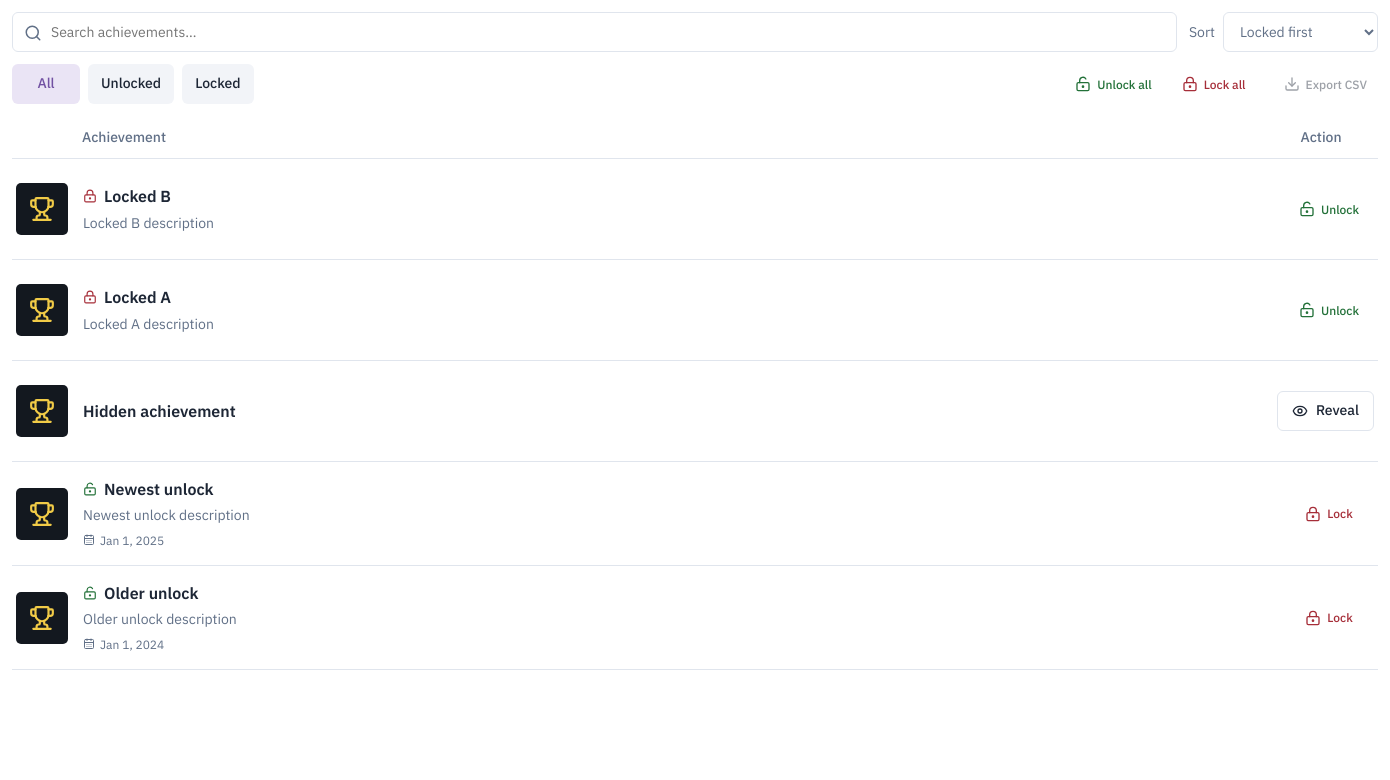
Test: shows bulk actions for the active filter and hides unsupported locks
Expected: the button "Unlock all" is enabled, x1=1064 y1=66 x2=1163 y2=102
Expected: the button "Lock all" is enabled, x1=1169 y1=66 x2=1259 y2=102
Click the button "Locked".
click(218, 84)  # box x1=182 y1=64 x2=254 y2=104
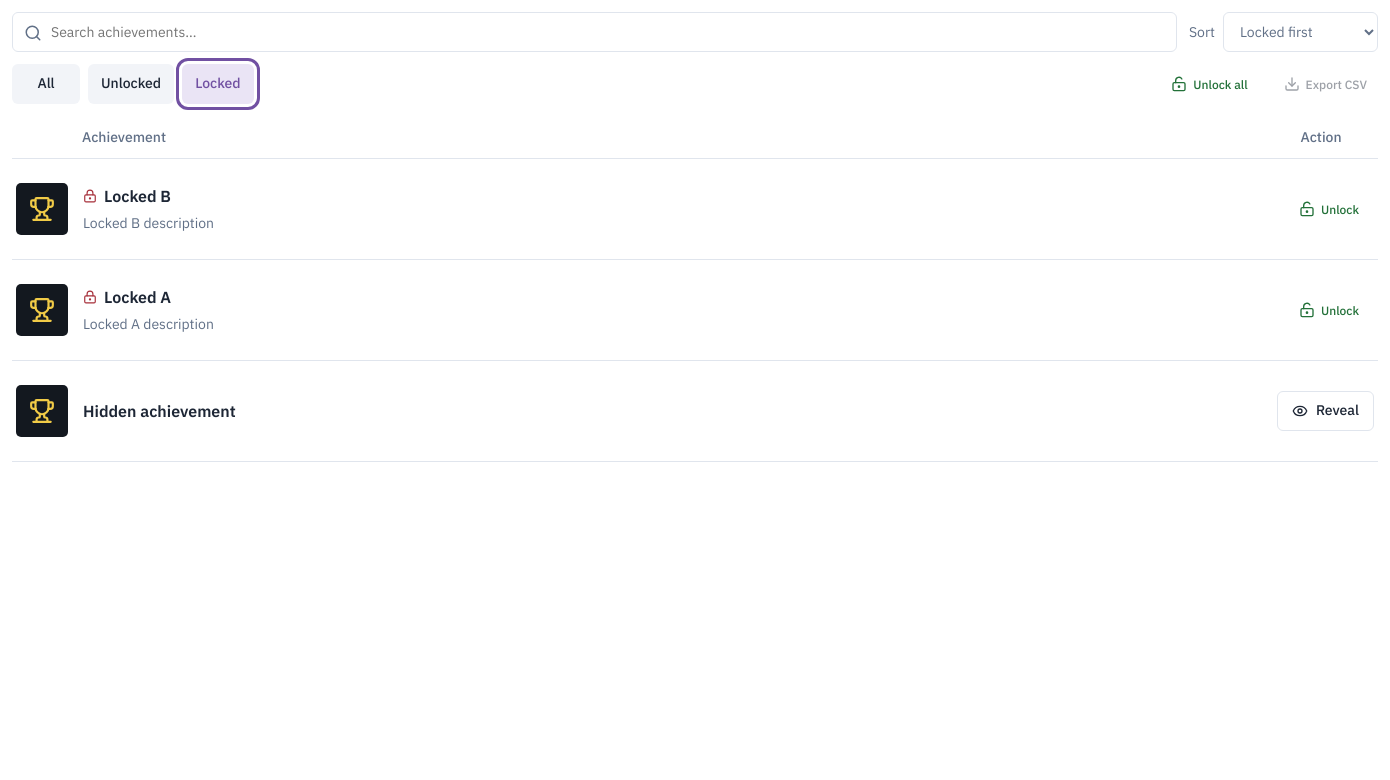
Expected: the button "Unlock all" is enabled, x1=1160 y1=66 x2=1259 y2=102
Click the button "Unlocked".
click(131, 84)  # box x1=88 y1=64 x2=174 y2=104
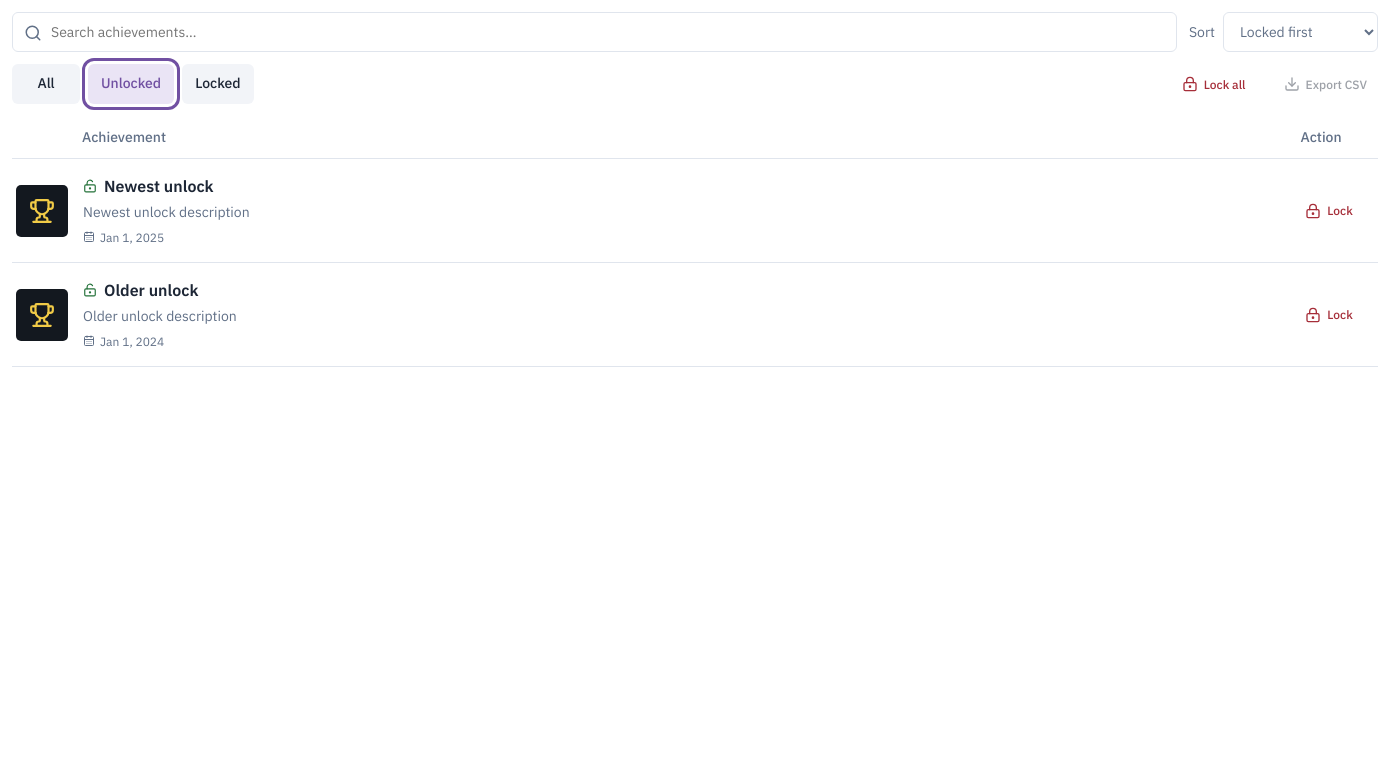
Expected: the button "Lock all" is enabled, x1=1169 y1=66 x2=1259 y2=102
Expected: the button "Unlock all" is gone
